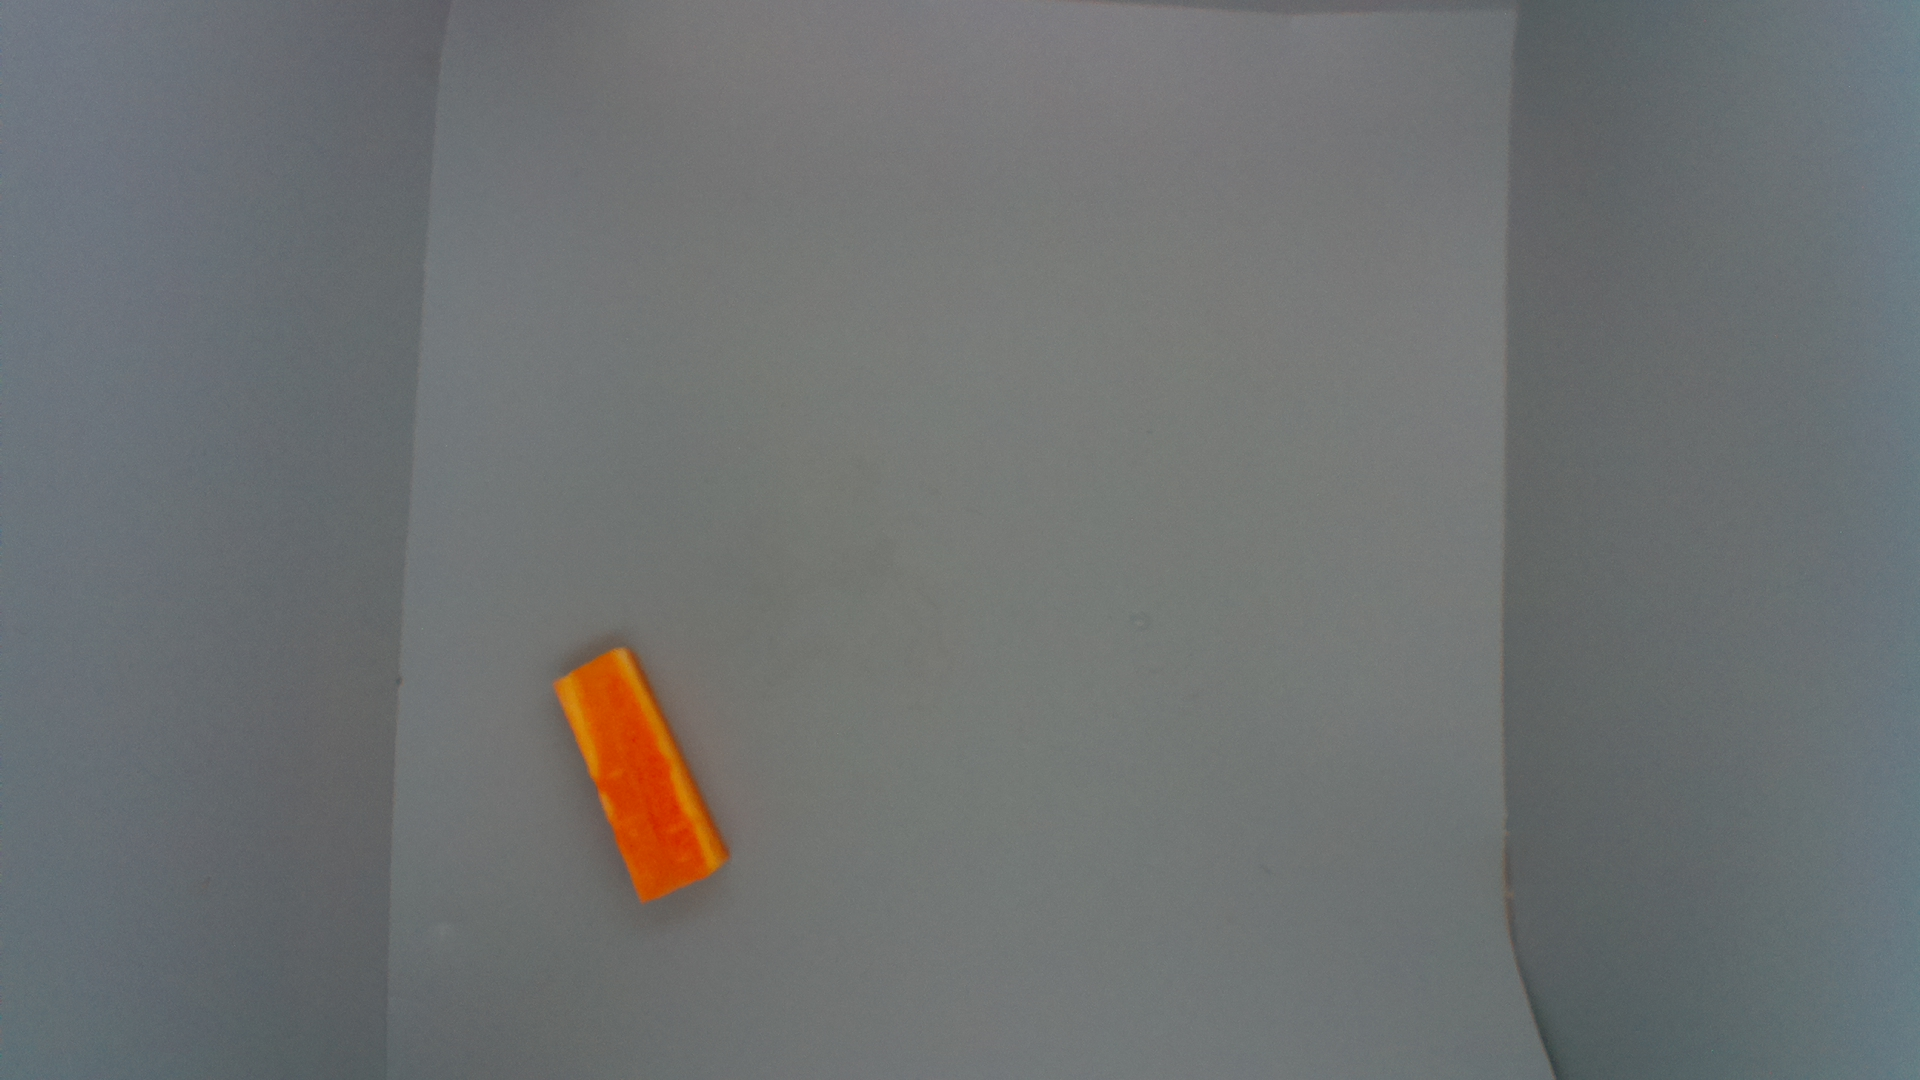carrot: (553, 644, 728, 906)
